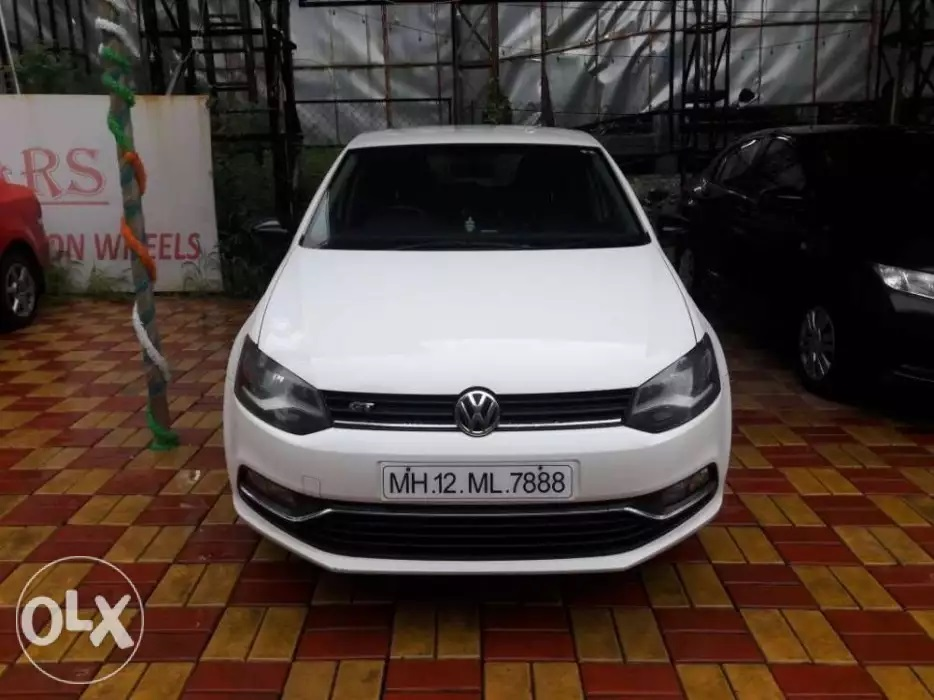licenseplate: (369, 454, 579, 505)
